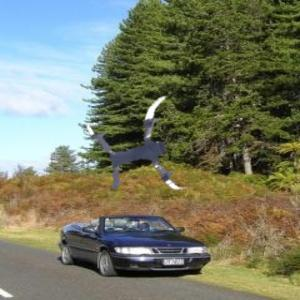drone: (93, 96, 204, 207)
